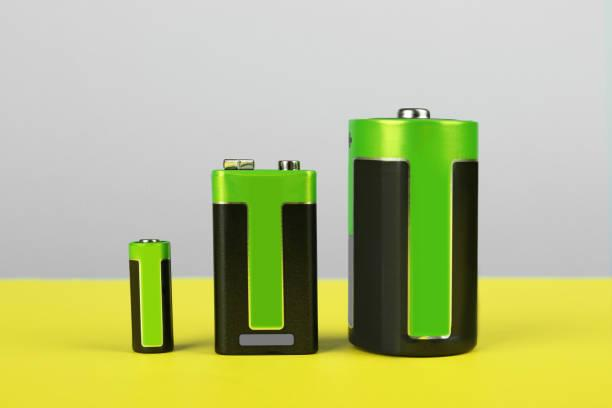9V Battery: (211, 160, 319, 357)
